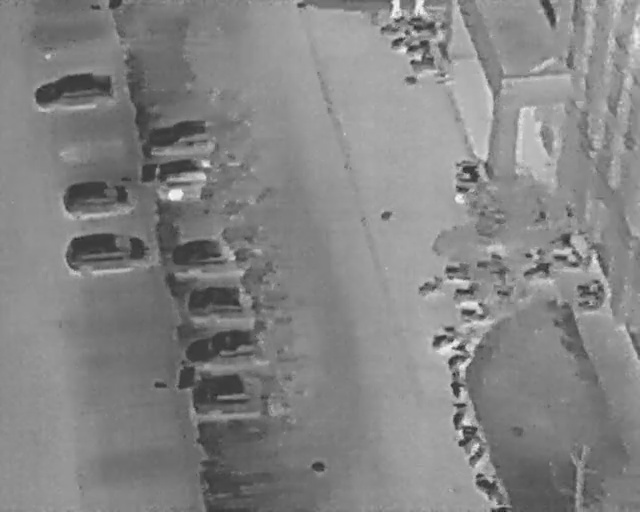Bicycle: (469, 466, 511, 509), (426, 320, 462, 353), (414, 271, 448, 302), (574, 288, 611, 316), (519, 257, 553, 287), (407, 49, 440, 79), (551, 247, 585, 272), (463, 439, 491, 469), (474, 249, 506, 275), (456, 423, 481, 456), (446, 341, 474, 370), (459, 301, 489, 323), (403, 36, 434, 57), (388, 30, 418, 51), (444, 261, 475, 281), (447, 369, 468, 398), (575, 276, 603, 296), (449, 183, 478, 202), (525, 208, 551, 229), (451, 400, 467, 432), (455, 164, 483, 182), (452, 284, 480, 302), (376, 20, 400, 38), (411, 22, 439, 35), (558, 230, 576, 250)
Car: (188, 365, 288, 419), (181, 320, 279, 369), (62, 227, 151, 280), (153, 154, 244, 204), (30, 67, 124, 115), (57, 172, 144, 222), (168, 231, 259, 273), (143, 116, 229, 158), (185, 282, 274, 318)
Person: (388, 0, 404, 19), (412, 0, 428, 19)
